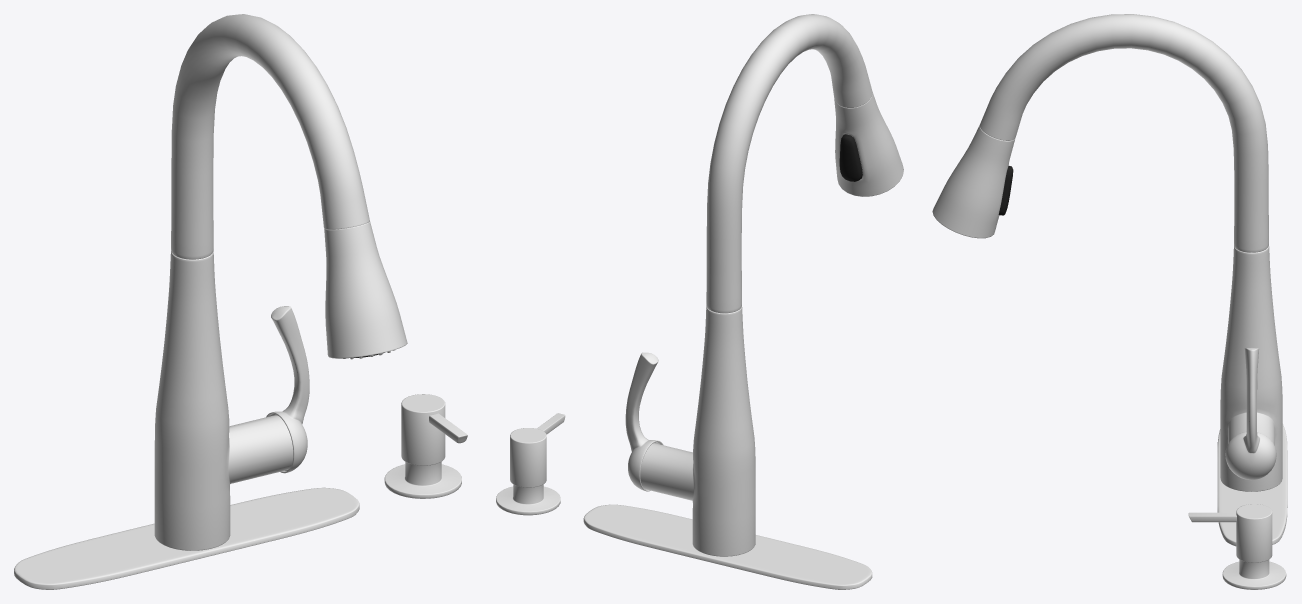
The model's file is ArcPulldownKitchenFaucetChrome.glb.
The picture shows the model from 3 angles, left to right: view 1: azimuth 30°, elevation 25°; view 2: azimuth 150°, elevation 25°; view 3: azimuth 270°, elevation 25°; orthographic projection. The views are drawn at different scales.
Parts seen in each view (by area): view 1: 4.001; view 2: 4.001, 4.002; view 3: 4.001.
Boxes of the visible parts, box(x1,y1,x2,y2) form: 4.001: box(14, 14, 467, 589); 4.001: box(496, 14, 903, 589); 4.002: box(839, 134, 862, 181); 4.001: box(932, 14, 1287, 589).
Size of the model in its own units: 24.35 by 30.3 by 20.84.
Materials: 3 (3 with a texture image).
